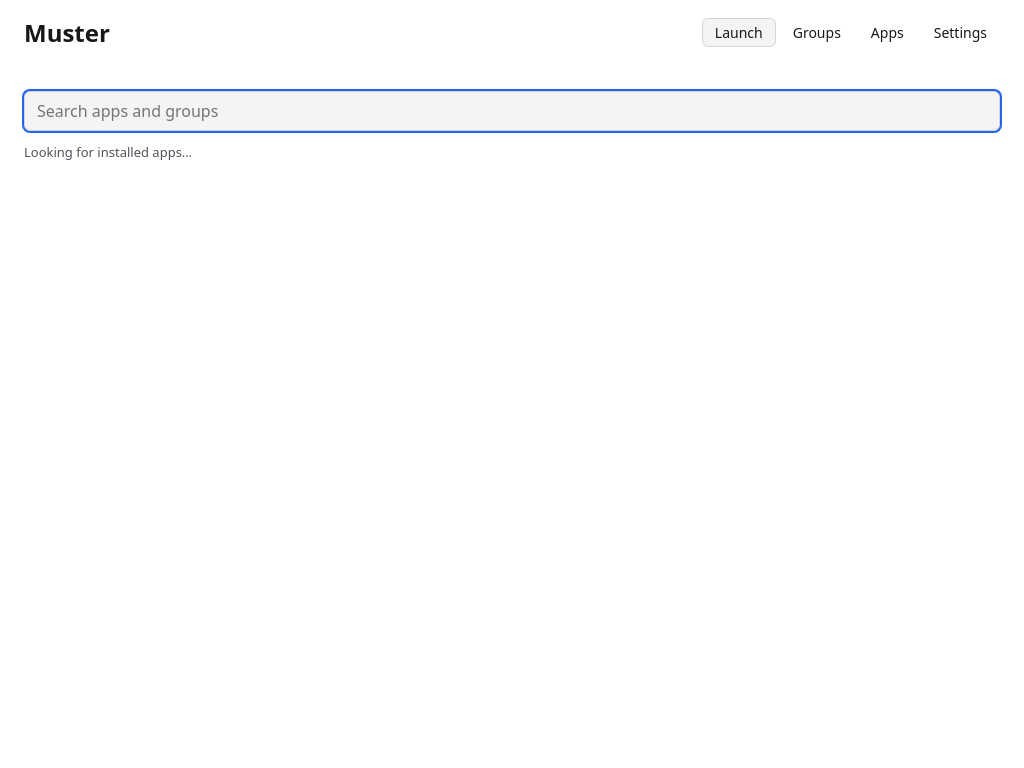
Test: App › closes a group from the group list and says what is still running
Click the button "Groups" at x=817, y=32, box [780,18,854,47]
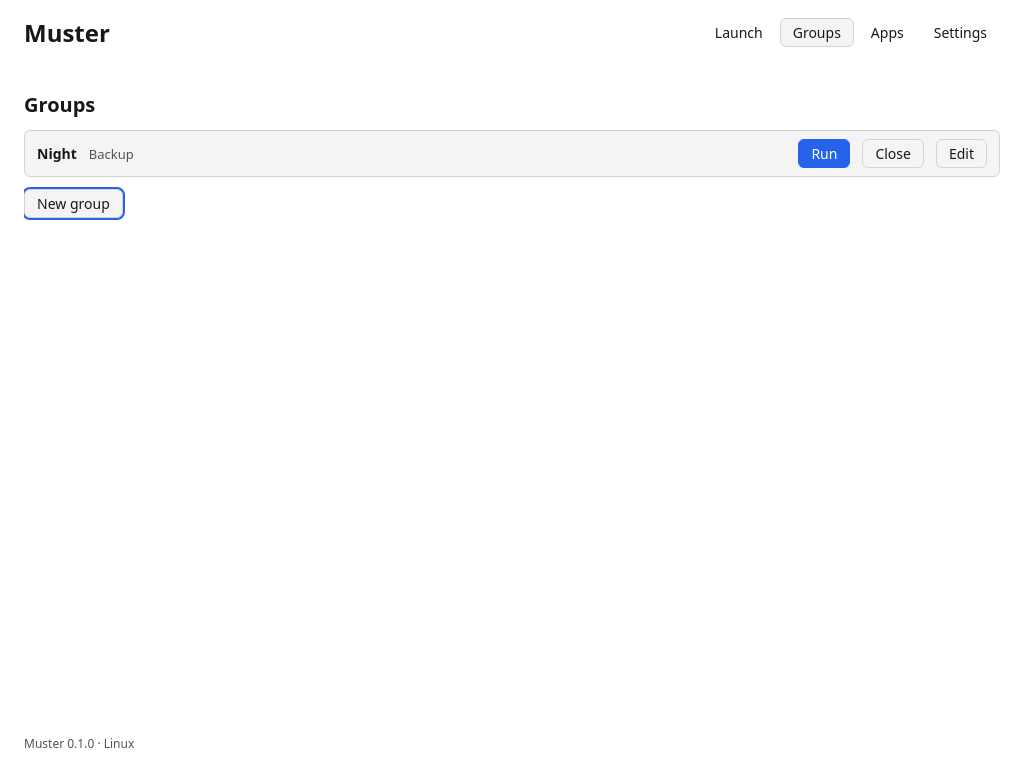
Click the button "Close" at x=893, y=154, box [862,139,924,168]
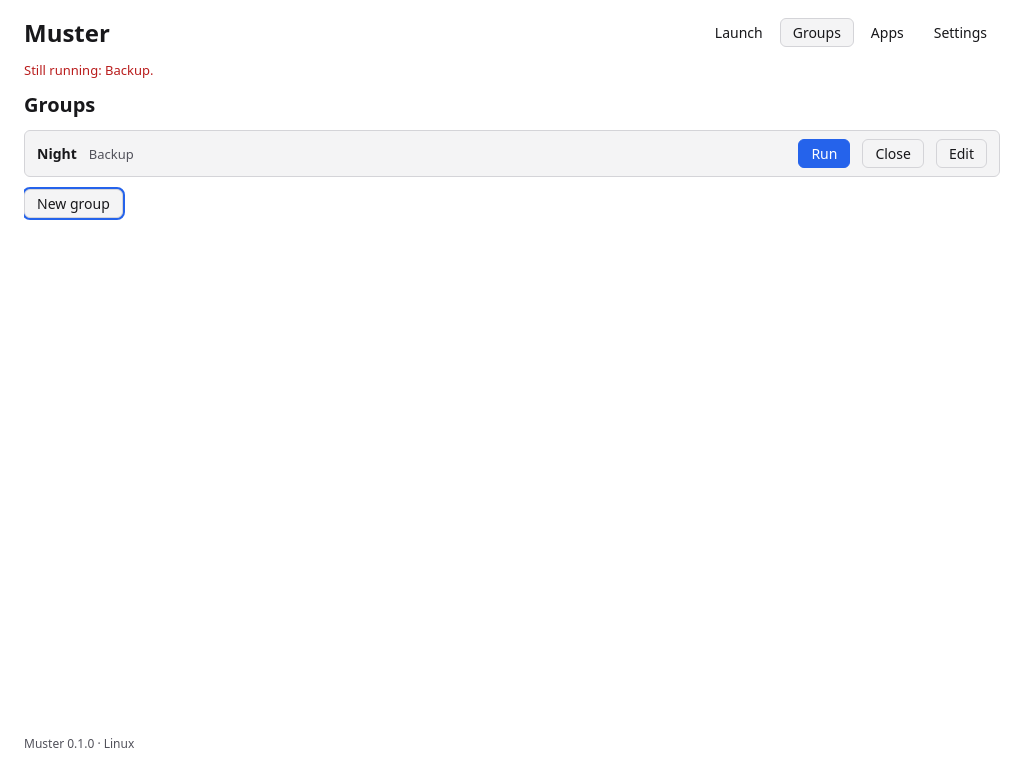
expect the message reads "Still running: Backup.": met, box [24,61,153,79]
